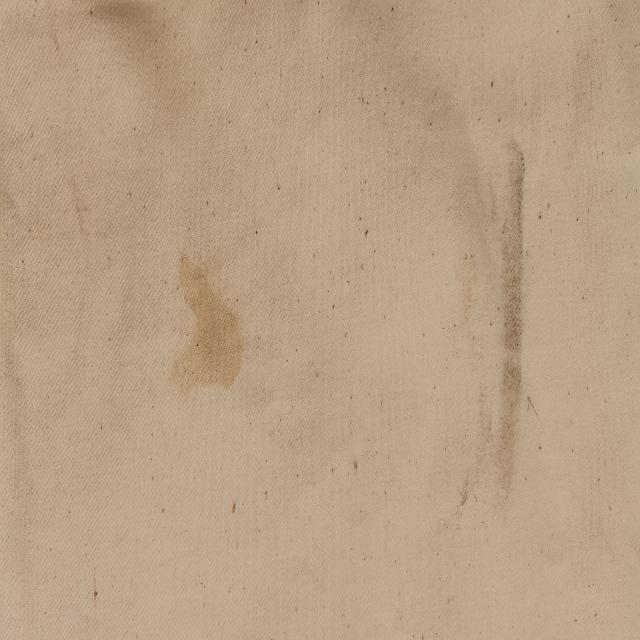taaaches: (464, 101, 569, 535), (150, 234, 272, 448)
